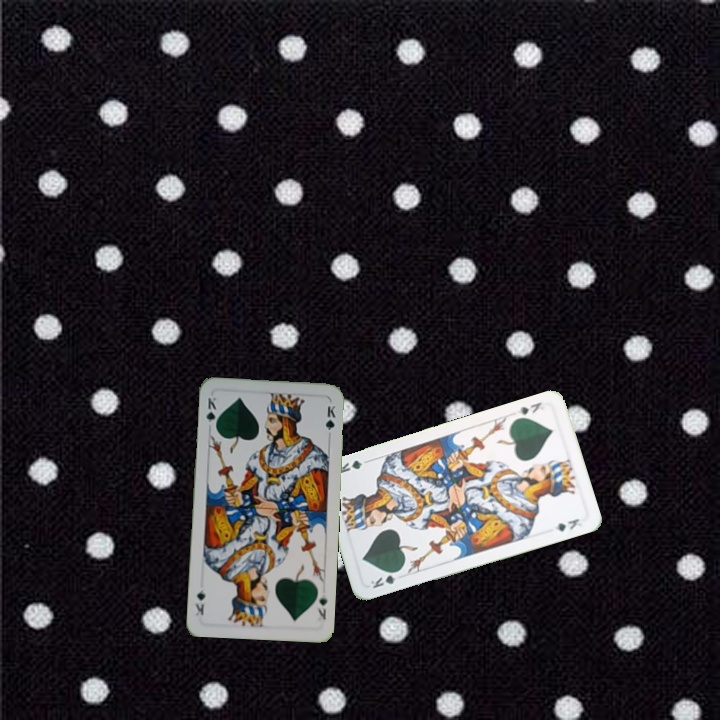GK: (366, 566, 404, 591), (202, 393, 219, 432), (513, 398, 544, 417), (313, 590, 330, 622)
